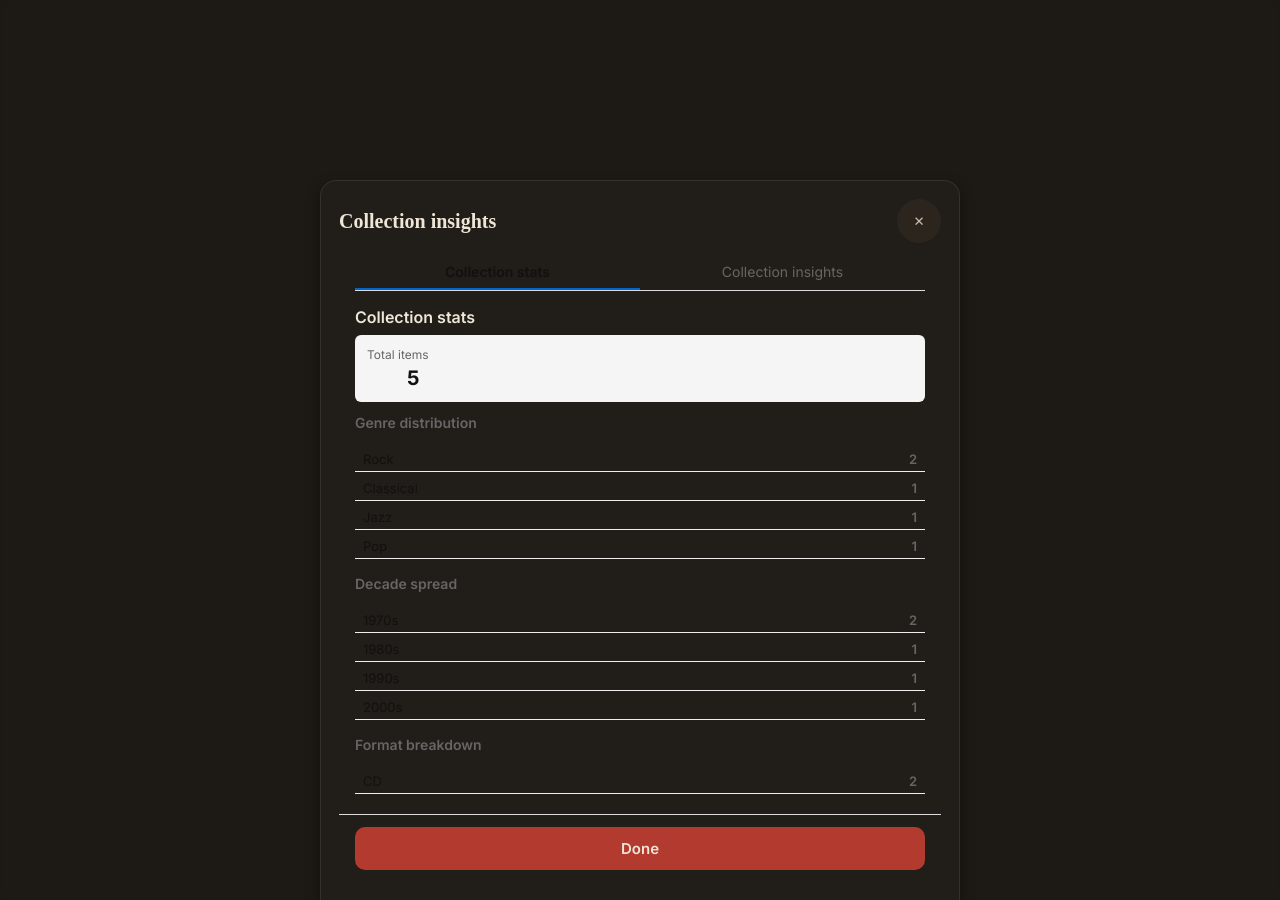
it: InsightsDashboard — AI Insights tab › shows generate button when no insights loaded
The width and height of the screenshot is (1280, 900).
# Switch to AI tab
Click the tab "Collection insights" at (782, 272), box [640,255,925,290]
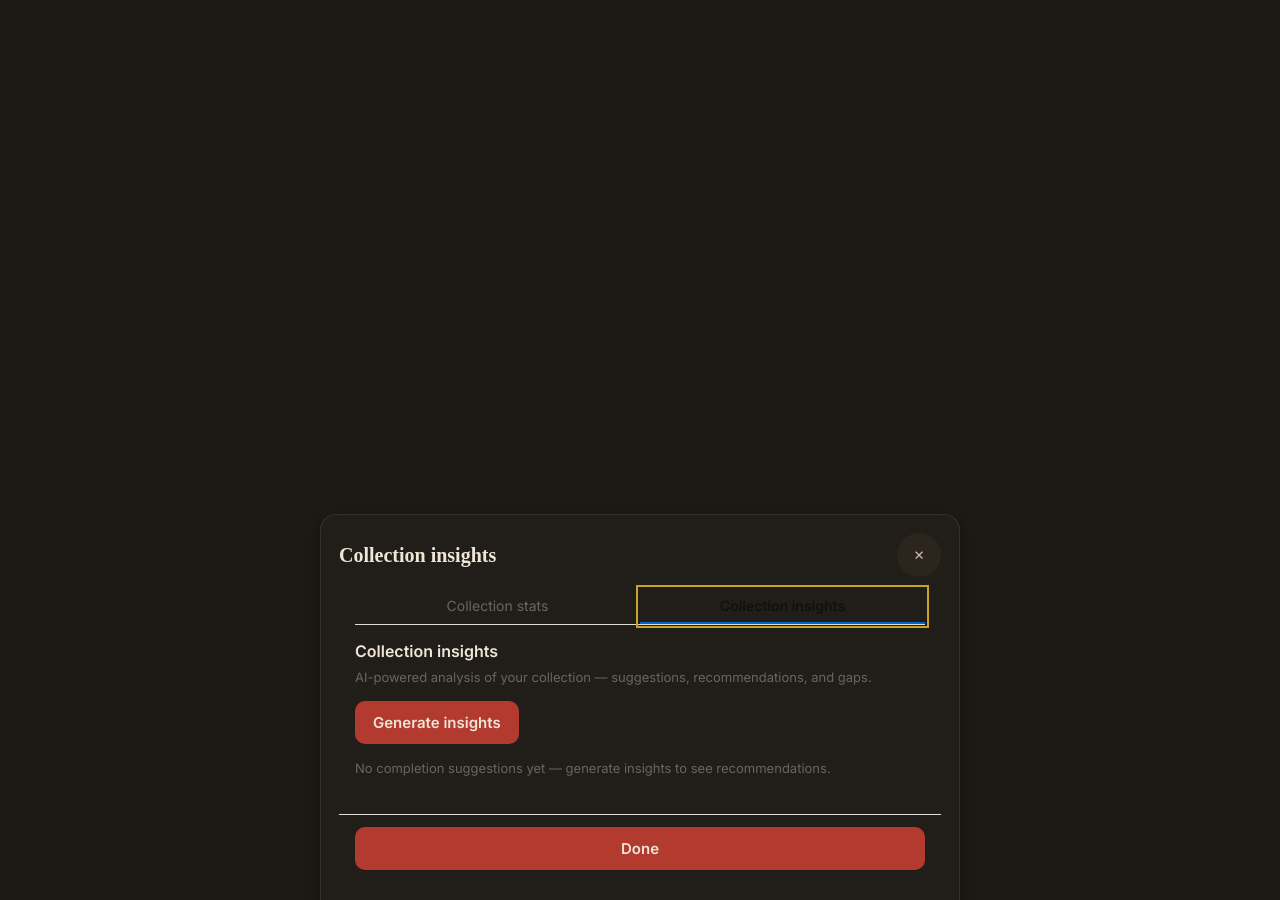
Expected: the button "Generate insights" is shown, [355,701,519,744]
